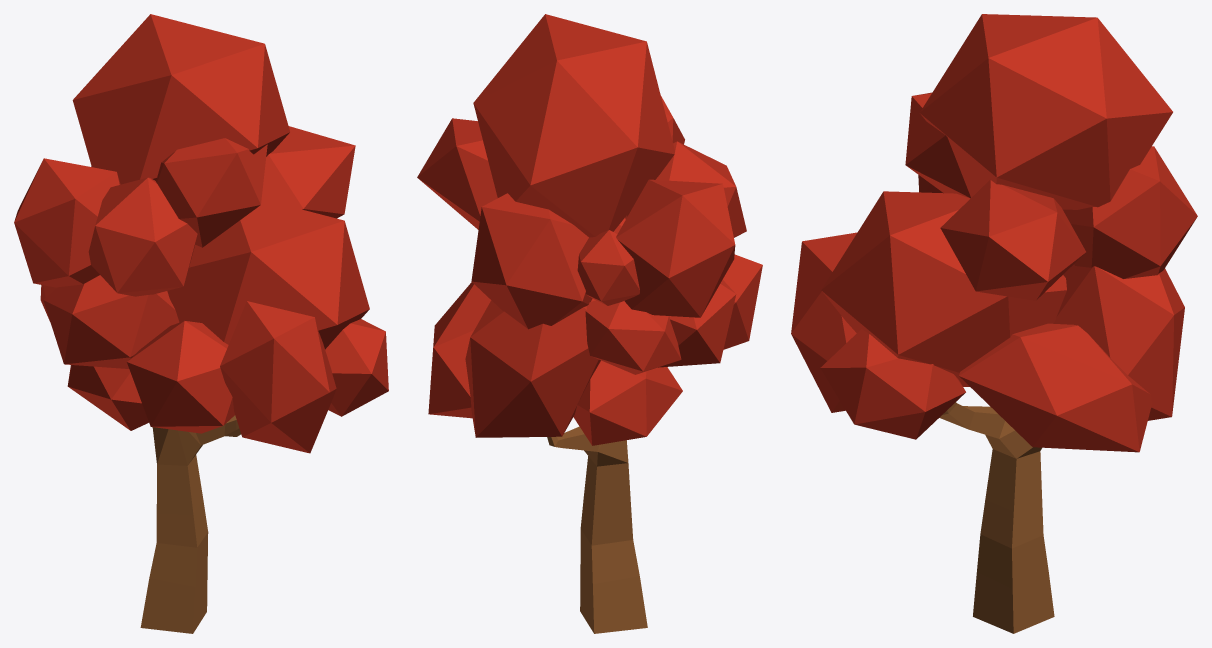
Rendered from TreeLarge_TFSGJ_Spring2025.fbx.
The picture shows the model from 3 angles, left to right: view 1: azimuth 30°, elevation 25°; view 2: azimuth 150°, elevation 25°; view 3: azimuth 270°, elevation 25°; orthographic projection. The views are drawn at different scales.
Visible parts, largest first — view 1: TreeLarge_TFSGJ_Spring2025; view 2: TreeLarge_TFSGJ_Spring2025; view 3: TreeLarge_TFSGJ_Spring2025.
Boxes of the visible parts, x1,y1,x2,y2 form: TreeLarge_TFSGJ_Spring2025: [14, 14, 388, 633]; TreeLarge_TFSGJ_Spring2025: [417, 14, 762, 633]; TreeLarge_TFSGJ_Spring2025: [791, 14, 1197, 633].
Bounding box in the file's own units: 132 × 229 × 139.
